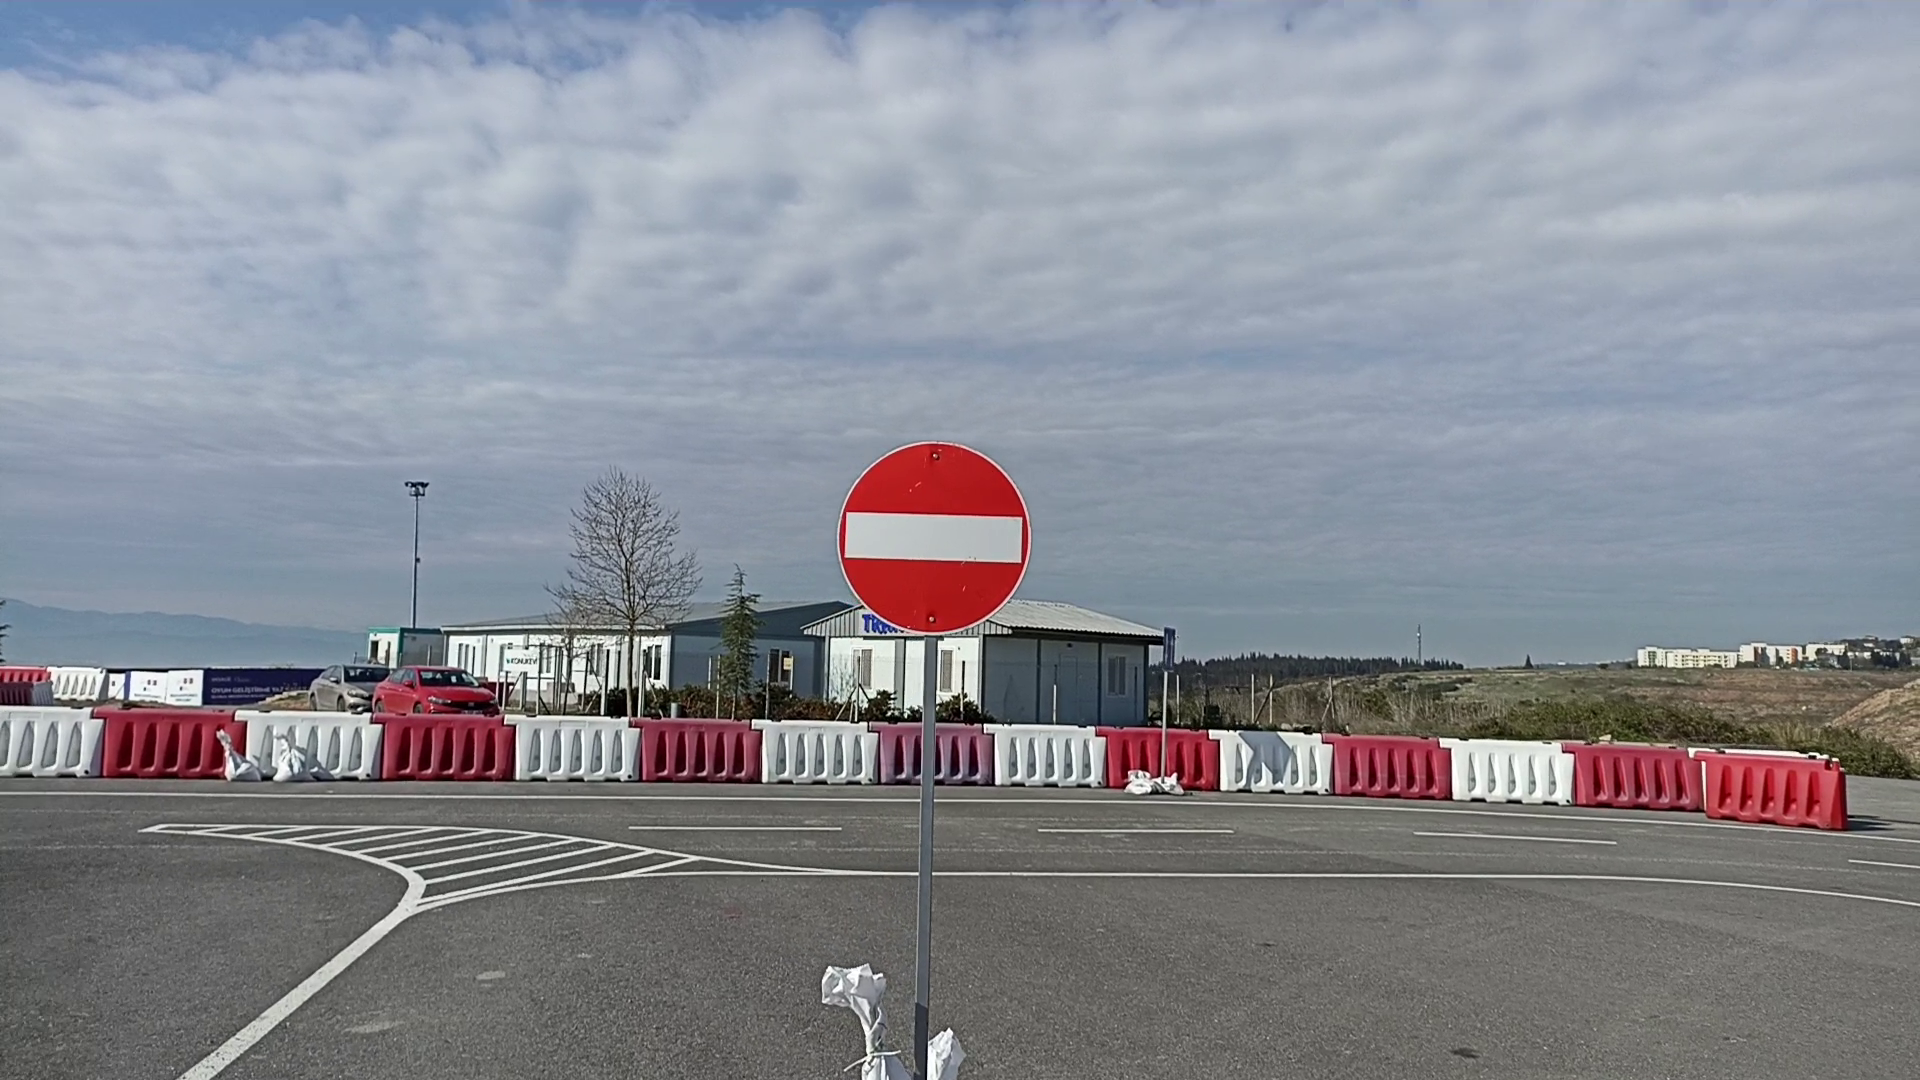noentryway: (831, 438, 1034, 636)
